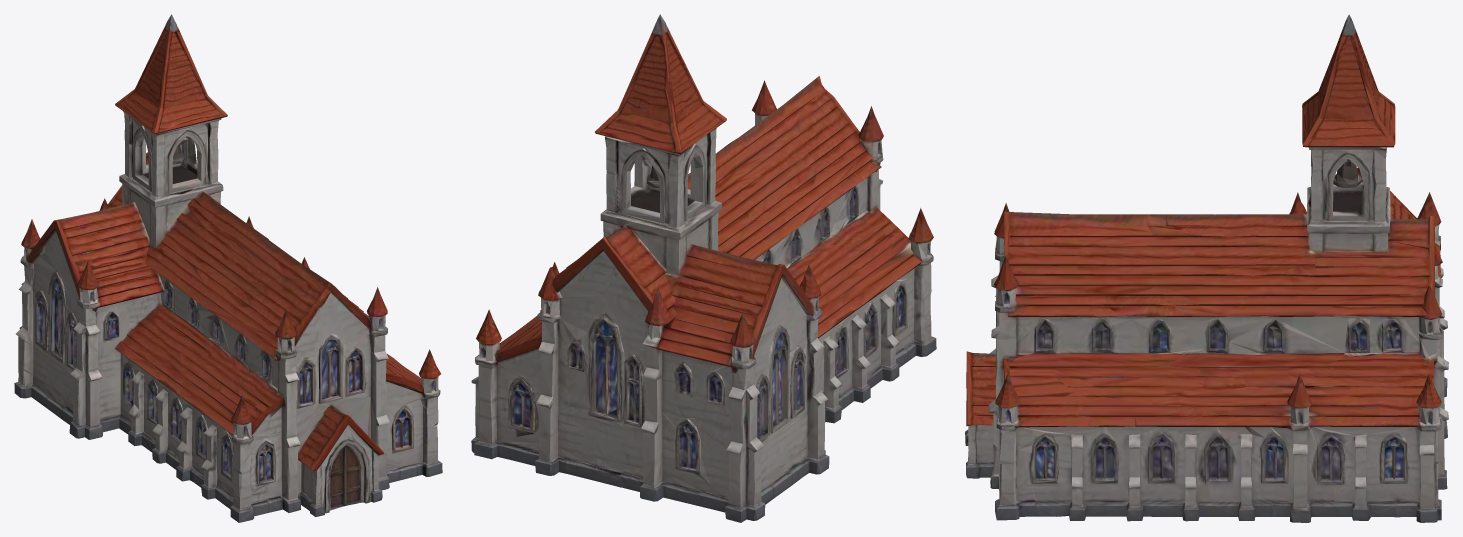
File: oc_abbey.glb
3 renders of one model, left to right at view 1: azimuth 30°, elevation 25°; view 2: azimuth 150°, elevation 25°; view 3: azimuth 270°, elevation 25°, orthographic. The views are drawn at different scales.
Visible parts, largest first — view 1: W_abbey; view 2: W_abbey; view 3: W_abbey.
Boxes of the visible parts, x1,y1,x2,y2 form: W_abbey: (14, 14, 442, 522); W_abbey: (471, 14, 936, 522); W_abbey: (965, 14, 1448, 522).
Bounding box in the file's own units: 30.67 × 45.04 × 45.02.
1 material, 1 textured.
